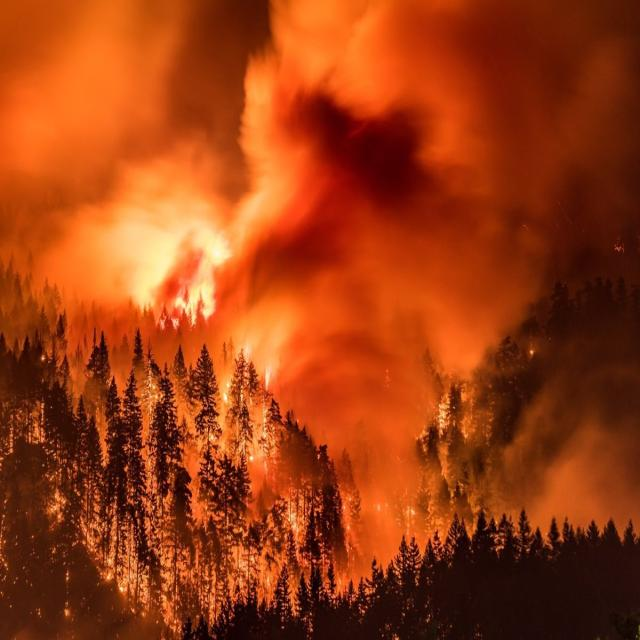Fire: (8, 362, 324, 632)
Smoke: (255, 22, 630, 466)
